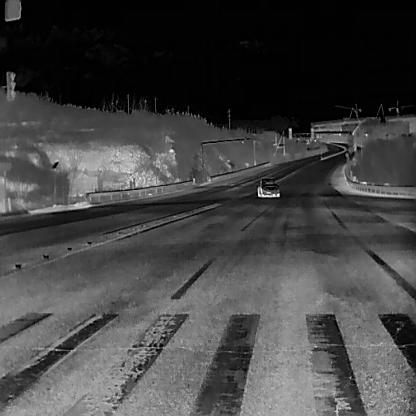car: (257, 177, 280, 198)
truck: (352, 141, 356, 150), (324, 138, 329, 143)
